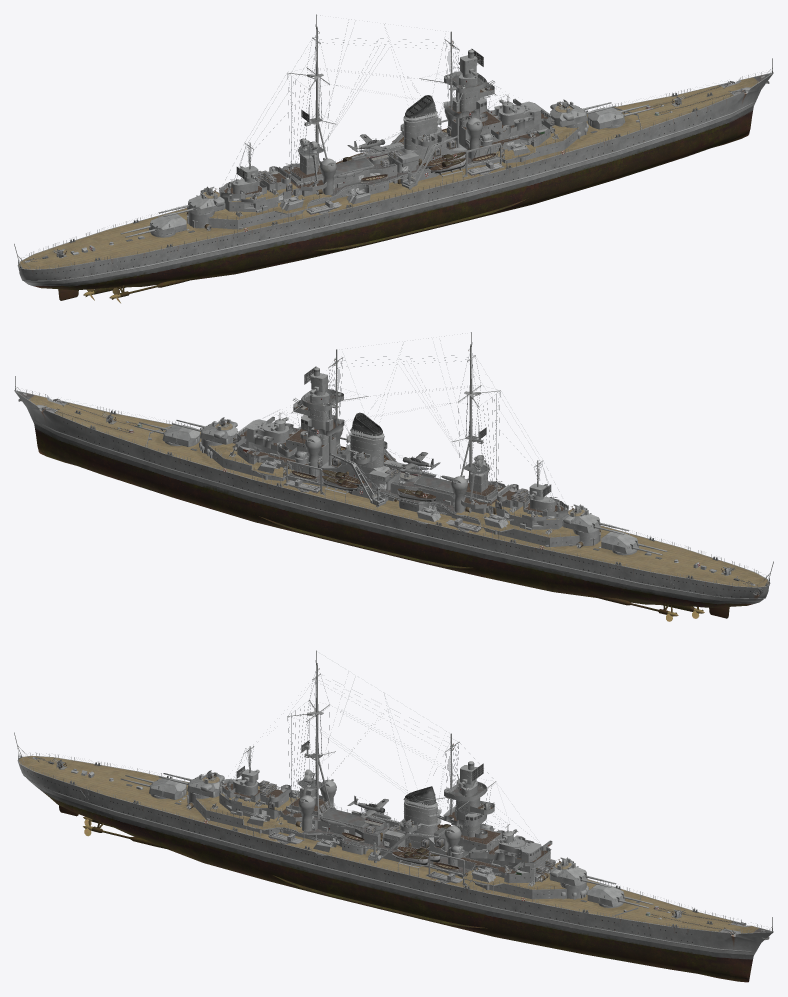
File: Prinz_Eugen.fbx
3 renders of one model, top to bottom at view 1: azimuth 30°, elevation 25°; view 2: azimuth 150°, elevation 25°; view 3: azimuth 330°, elevation 25°, orthographic.
Visible parts, largest first — view 1: Prinz_Eugen_Hull, Prinz_Eugen_Props, Prinz_Eugen_Hull_Cables, Prinz_Eugen_MetalProps, German_Props, Prinz_Eugen_Side_Fence, 203mm_SK_C-34_Mount.002, 203mm_SK_C-34_Mount, 203mm_SK_C-34_Mount.003, 203mm_SK_C-34_Mount.001, Ar_196_Frame, Prinz_Eugen_Radar_1; view 2: Prinz_Eugen_Hull, Prinz_Eugen_Hull_Cables, Prinz_Eugen_Props, Prinz_Eugen_MetalProps, Prinz_Eugen_Side_Fence, German_Props, 203mm_SK_C-34_Mount.002, 203mm_SK_C-34_Mount, 203mm_SK_C-34_Mount.003, 203mm_SK_C-34_Mount.001, Prinz_Eugen_Radar_1; view 3: Prinz_Eugen_Hull, Prinz_Eugen_Props, Prinz_Eugen_Hull_Cables, Prinz_Eugen_MetalProps, Prinz_Eugen_Side_Fence, German_Props, 203mm_SK_C-34_Mount, 203mm_SK_C-34_Mount.001, 203mm_SK_C-34_Mount.003, 203mm_SK_C-34_Mount.002.
Boxes of the visible parts, x1,y1,x2,y2 form: Prinz_Eugen_Hull: (17,14,773,297); Prinz_Eugen_Props: (18,32,769,269); Prinz_Eugen_Hull_Cables: (225,15,534,189); Prinz_Eugen_MetalProps: (14,31,772,267); German_Props: (69,80,712,261); Prinz_Eugen_Side_Fence: (18,71,772,269); 203mm_SK_C-34_Mount.002: (187,187,225,215); 203mm_SK_C-34_Mount: (550,101,587,126); 203mm_SK_C-34_Mount.003: (149,212,186,236); 203mm_SK_C-34_Mount.001: (587,107,625,129); Ar_196_Frame: (347,134,390,156); Prinz_Eugen_Radar_1: (458,48,483,78); Prinz_Eugen_Hull: (14,332,770,614); Prinz_Eugen_Hull_Cables: (264,333,565,508); Prinz_Eugen_Props: (18,350,769,595); Prinz_Eugen_MetalProps: (15,349,773,584); Prinz_Eugen_Side_Fence: (15,388,769,587); German_Props: (74,398,718,578); 203mm_SK_C-34_Mount.002: (562,505,600,533); 203mm_SK_C-34_Mount: (200,419,237,444); 203mm_SK_C-34_Mount.003: (601,530,638,553); 203mm_SK_C-34_Mount.001: (162,425,200,446); Prinz_Eugen_Radar_1: (304,366,329,395); Prinz_Eugen_Hull: (17,650,773,982); Prinz_Eugen_Props: (18,668,769,939); Prinz_Eugen_Hull_Cables: (234,656,539,853); Prinz_Eugen_MetalProps: (14,668,772,931); Prinz_Eugen_Side_Fence: (18,753,772,933); German_Props: (69,762,712,927); 203mm_SK_C-34_Mount: (549,858,587,886); 203mm_SK_C-34_Mount.001: (587,883,625,906); 203mm_SK_C-34_Mount.003: (149,778,186,799); 203mm_SK_C-34_Mount.002: (187,772,224,797).
Size of the model in its own units: 21485 by 6187 by 2314.
25 materials, 25 textured.
